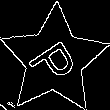P_NE: (24, 30, 84, 89)
